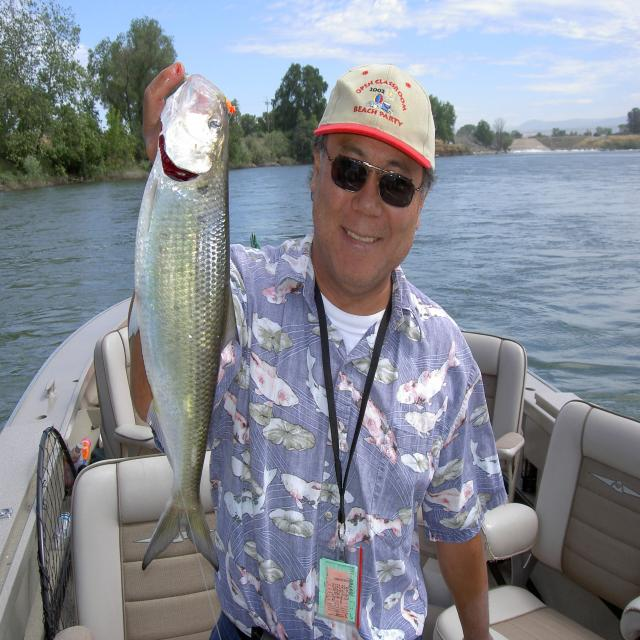Shad - American: (135, 63, 229, 570)
